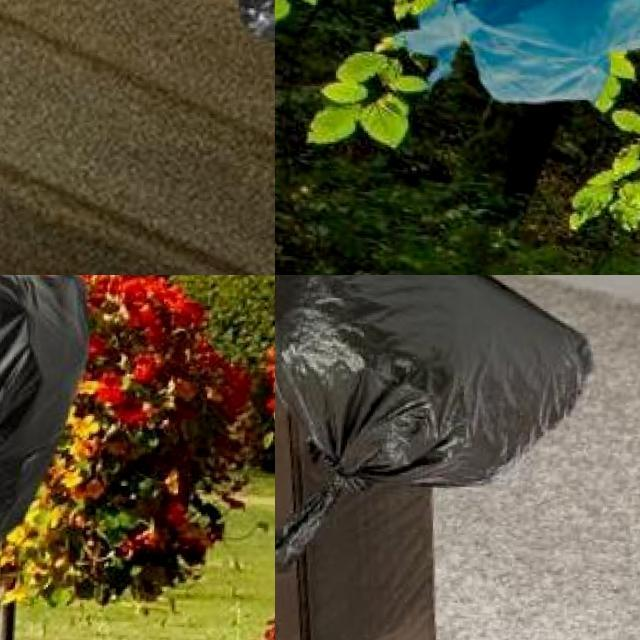waste: (275, 275, 592, 580), (0, 275, 91, 560), (400, 0, 640, 108)
